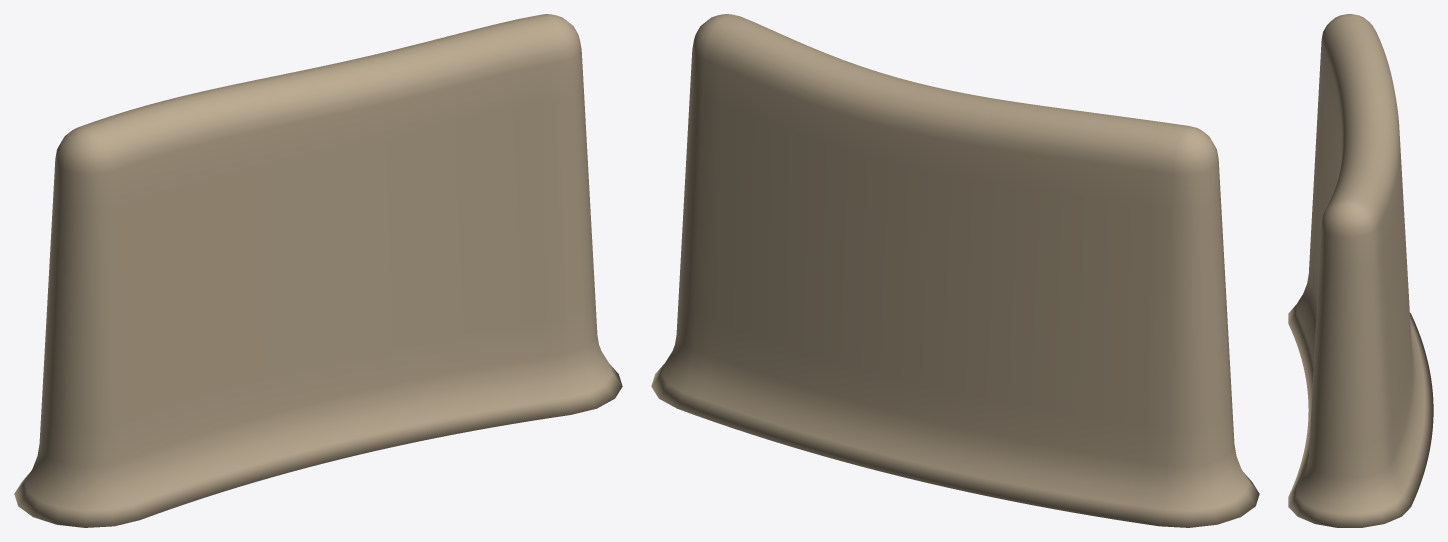
Rendered from KFB_Wall_curved_ring_r3_capAB.r4.glb.
3 renders of one model, left to right at view 1: azimuth 30°, elevation 25°; view 2: azimuth 150°, elevation 25°; view 3: azimuth 270°, elevation 25°, orthographic. The views are drawn at different scales.
Parts seen in each view (by area): view 1: KFB_Wall_curved_ring_r3_capAB; view 2: KFB_Wall_curved_ring_r3_capAB; view 3: KFB_Wall_curved_ring_r3_capAB.
Part boxes in pixels (x1=…): KFB_Wall_curved_ring_r3_capAB: x1=14, y1=14, x2=622, y2=527; KFB_Wall_curved_ring_r3_capAB: x1=651, y1=14, x2=1259, y2=527; KFB_Wall_curved_ring_r3_capAB: x1=1288, y1=14, x2=1433, y2=527.
Size of the model in its own units: 6.01 by 3.6 by 1.57.
